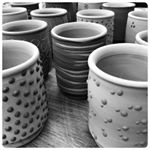cups: (85, 41, 146, 146), (2, 38, 52, 148)
